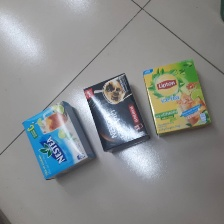CF Viet: (82, 72, 150, 155)
LipTon: (143, 58, 214, 137)
Nestea: (21, 101, 95, 181)
